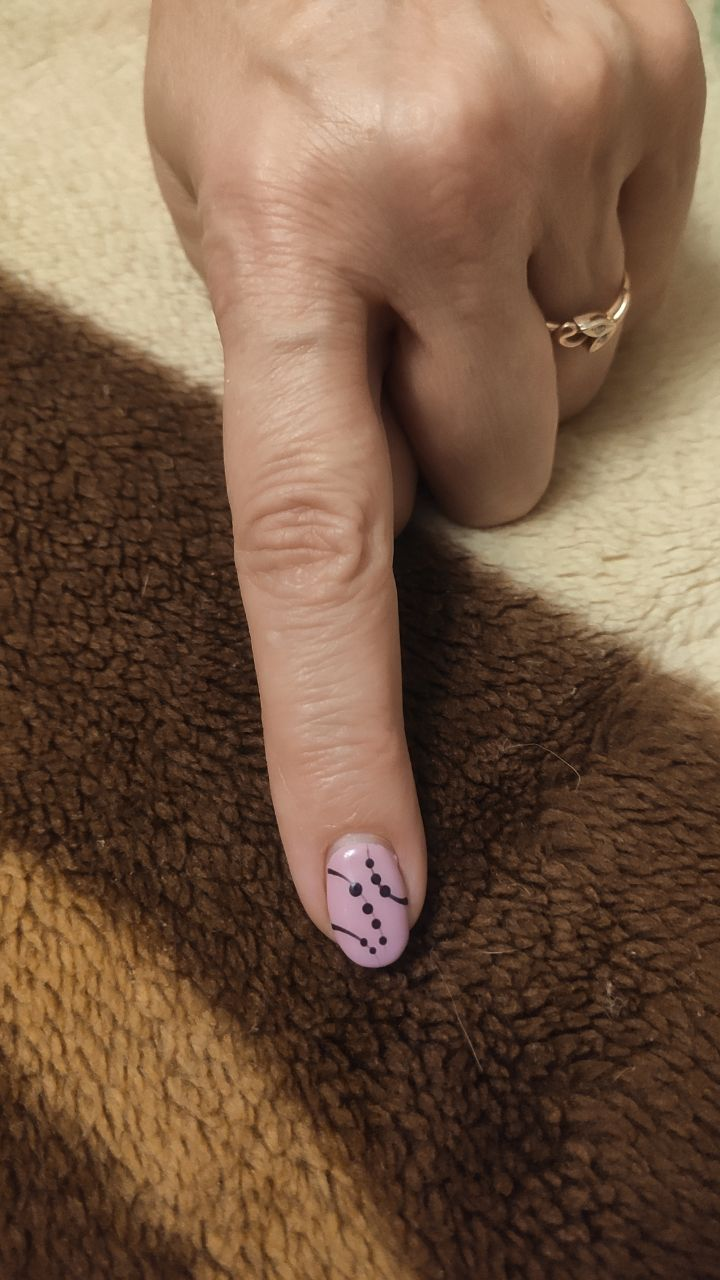finger: (278, 802, 431, 968)
